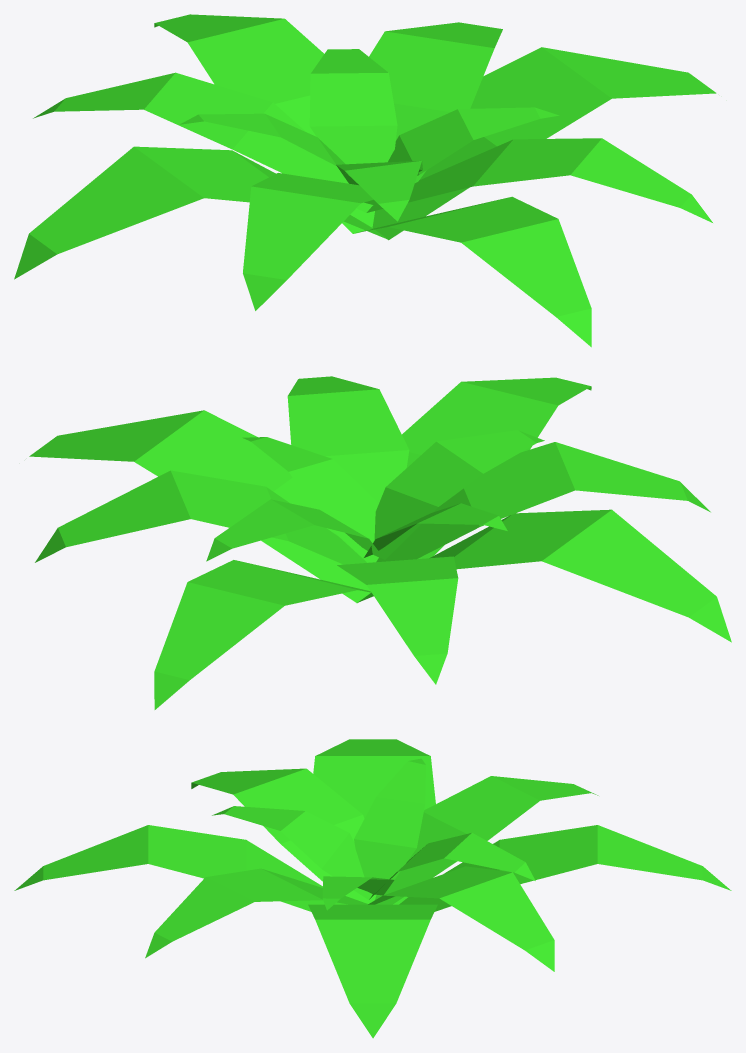
The model's file is trees_11.fbx.
3 renders of one model, top to bottom at view 1: azimuth 30°, elevation 25°; view 2: azimuth 150°, elevation 25°; view 3: azimuth 270°, elevation 25°, orthographic. The views are drawn at different scales.
Visible parts, largest first — view 1: Plane; view 2: Plane; view 3: Plane.
Boxes of the visible parts, x1,y1,x2,y2 form: Plane: (14,14,716,347); Plane: (29,376,731,709); Plane: (14,739,731,1038).
Size of the model in its own units: 2.06 by 0.3513 by 2.18.
